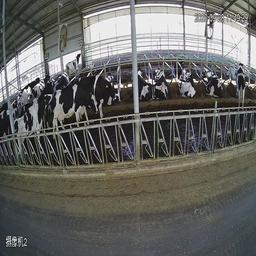cow: (4, 92, 55, 161), (55, 80, 100, 141), (199, 59, 227, 101), (151, 63, 171, 108), (233, 56, 250, 107), (178, 66, 198, 101), (104, 68, 118, 118), (139, 57, 149, 111), (66, 49, 83, 77), (173, 54, 190, 75), (35, 68, 51, 90)
